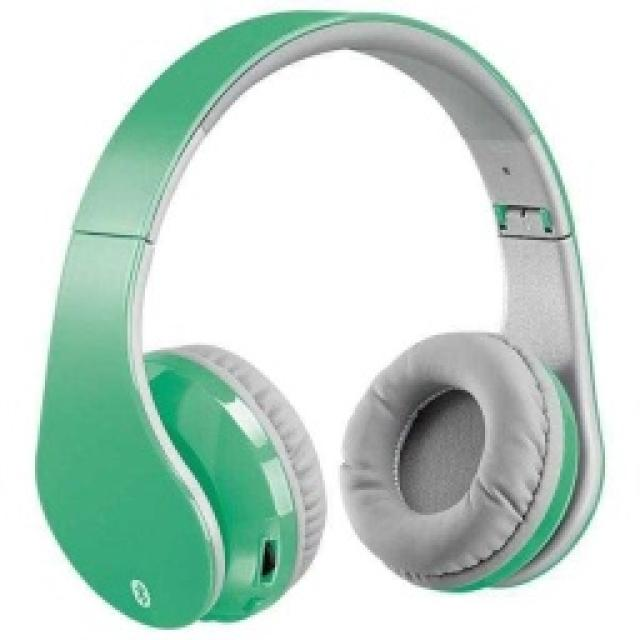headphones: (33, 8, 605, 628)
